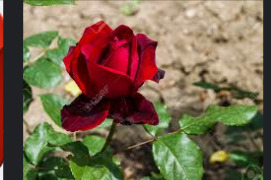RedRose: (58, 16, 165, 131)
